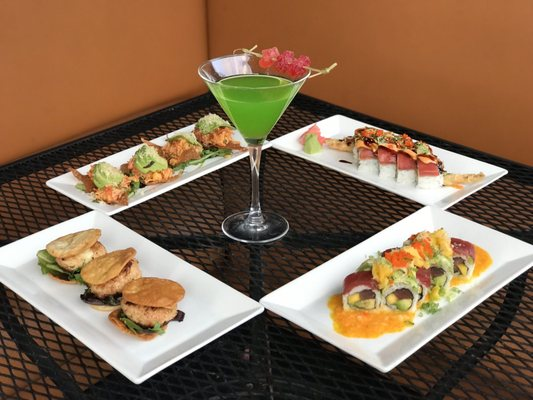soup: (109, 276, 186, 341), (37, 228, 105, 282), (80, 247, 142, 305)
